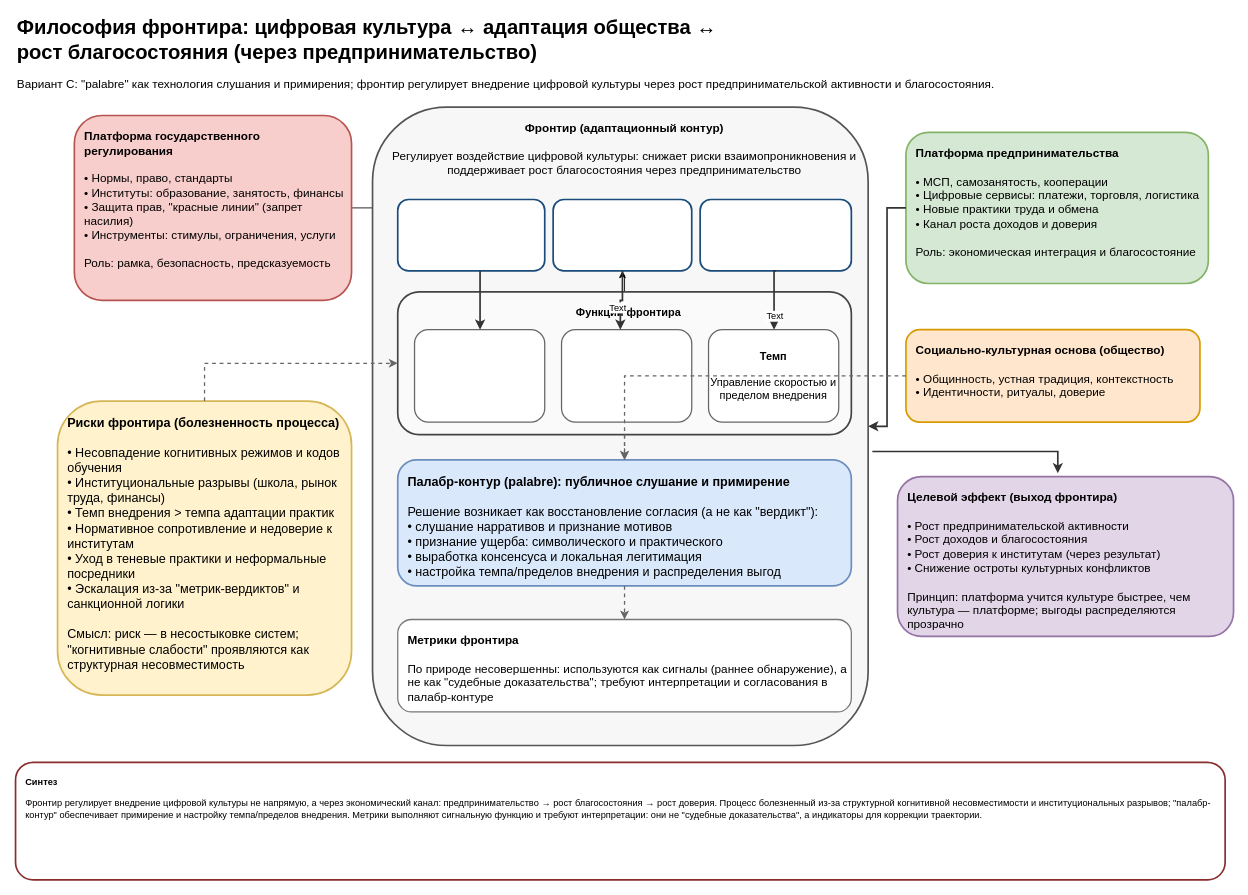
Some shapes in this 1248 by 895 pixel diagram are drawn without their labels. Each missing label, with the centre of its shape:
"Перевод Гибридные институты и практики совместимости" belongs at (626,375).
"Регистрация Где растёт напряжение? Какие разрывы в институтах" belongs at (479,375).
"Фактор 1 Риск (вероятность × ущерб)" belongs at (470,234).
"Фактор 2 Бюджет (ресурсное ограничение)" belongs at (622,234).
"Фактор 3 Фронтир (новизна/неопределённость)" belongs at (775,234).
